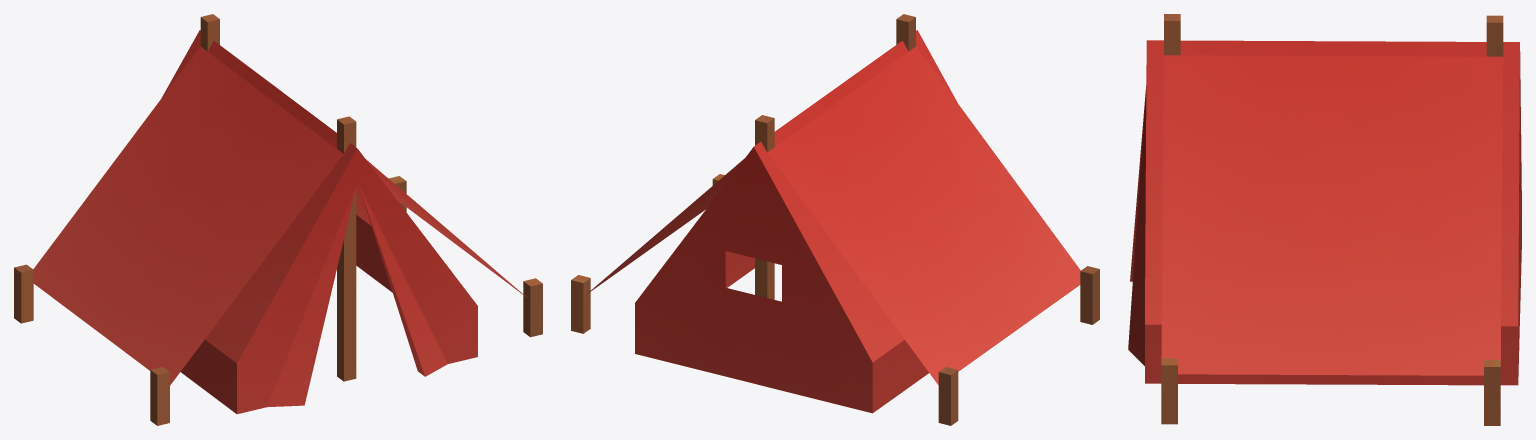
Rendered from tentLarge.glb.
3 renders of one model, left to right at view 1: azimuth 30°, elevation 25°; view 2: azimuth 150°, elevation 25°; view 3: azimuth 270°, elevation 25°, orthographic. The views are drawn at different scales.
Parts seen in each view (by area): view 1: tentLarge; view 2: tentLarge; view 3: tentLarge.
Boxes of the visible parts, x1,y1,x2,y2 form: tentLarge: (14, 14, 542, 425); tentLarge: (571, 14, 1099, 425); tentLarge: (1128, 14, 1521, 425).
Size of the model in its own units: 1.59 by 1.01 by 1.21.
1 material, 1 textured.
